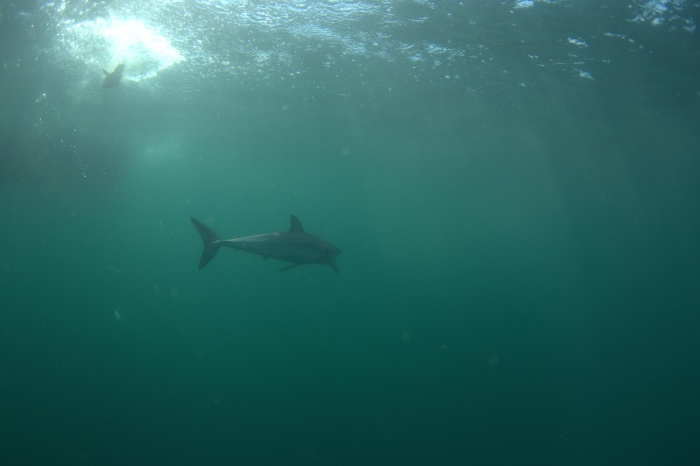Mako: (181, 204, 348, 283)
